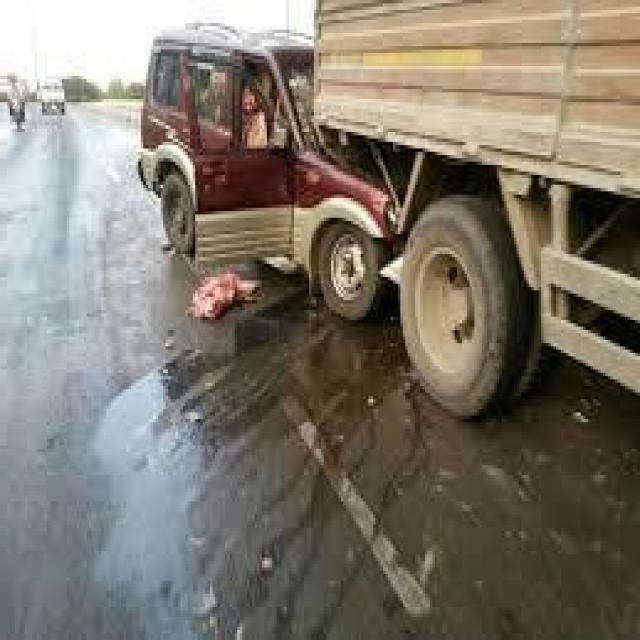multiple_accident: (266, 19, 411, 201)
